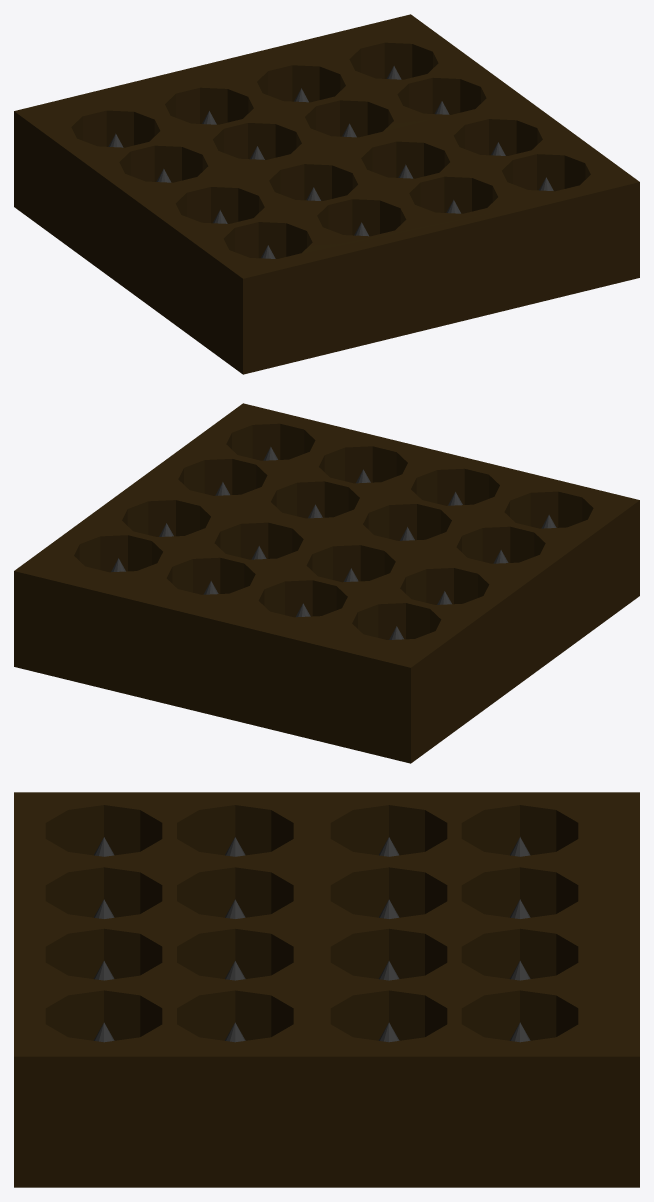
Rendered from Spike_Trap.fbx.
The picture shows the model from 3 angles, top to bottom: view 1: azimuth 30°, elevation 25°; view 2: azimuth 150°, elevation 25°; view 3: azimuth 270°, elevation 25°; orthographic projection. The views are drawn at different scales.
Parts seen in each view (by area): view 1: Spike_Base1, Spikes; view 2: Spike_Base1, Spikes; view 3: Spike_Base1, Spikes.
Boxes of the visible parts, x1,y1,x2,y2 form: Spike_Base1: (14, 14, 639, 374); Spikes: (108, 66, 553, 258); Spike_Base1: (14, 403, 639, 763); Spikes: (111, 447, 556, 639); Spike_Base1: (14, 792, 639, 1187); Spikes: (93, 837, 530, 1042).
Size of the model in its own units: 10.21 by 2.36 by 10.21.
